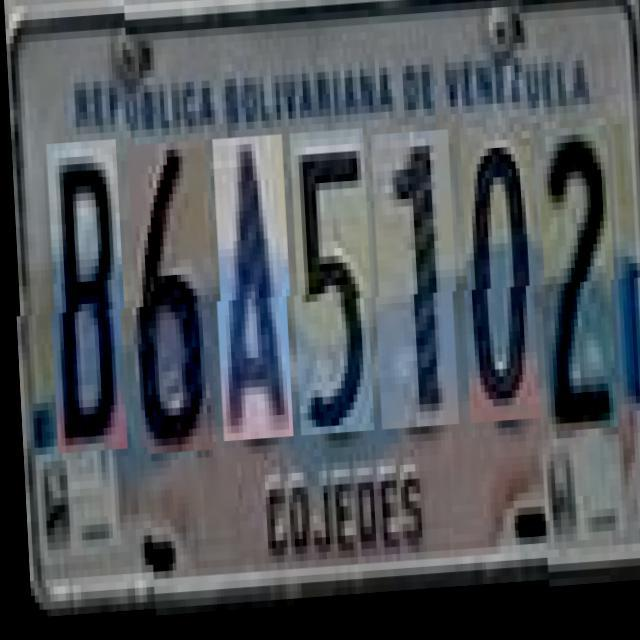1: (369, 136, 458, 435)
2: (534, 126, 616, 432)
5: (287, 134, 373, 440)
6: (126, 144, 216, 456)
A: (210, 138, 292, 444)
B: (45, 148, 127, 461)
O: (458, 131, 539, 430)
